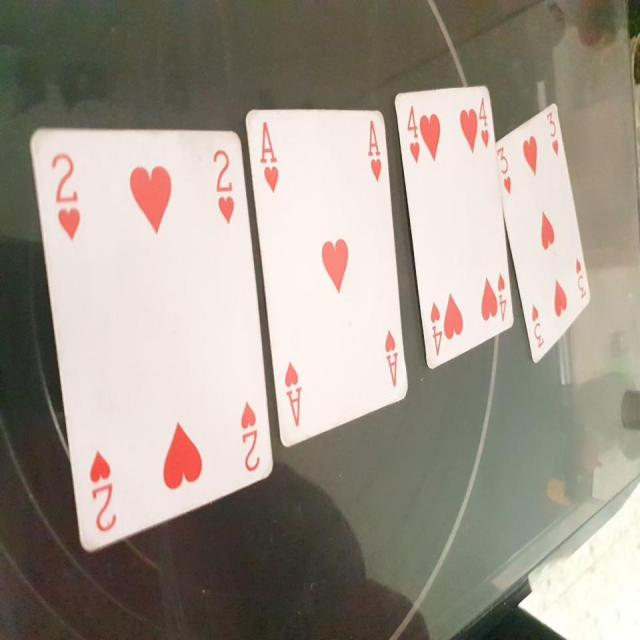2 Hearts: (21, 112, 279, 557)
3 Hearts: (495, 93, 599, 362)
4 Hearts: (395, 78, 519, 372)
A Hearts: (239, 90, 414, 452)
